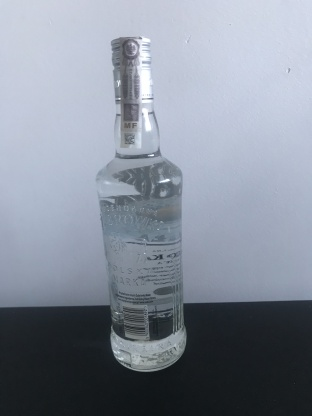nakretka: (108, 32, 156, 106)
